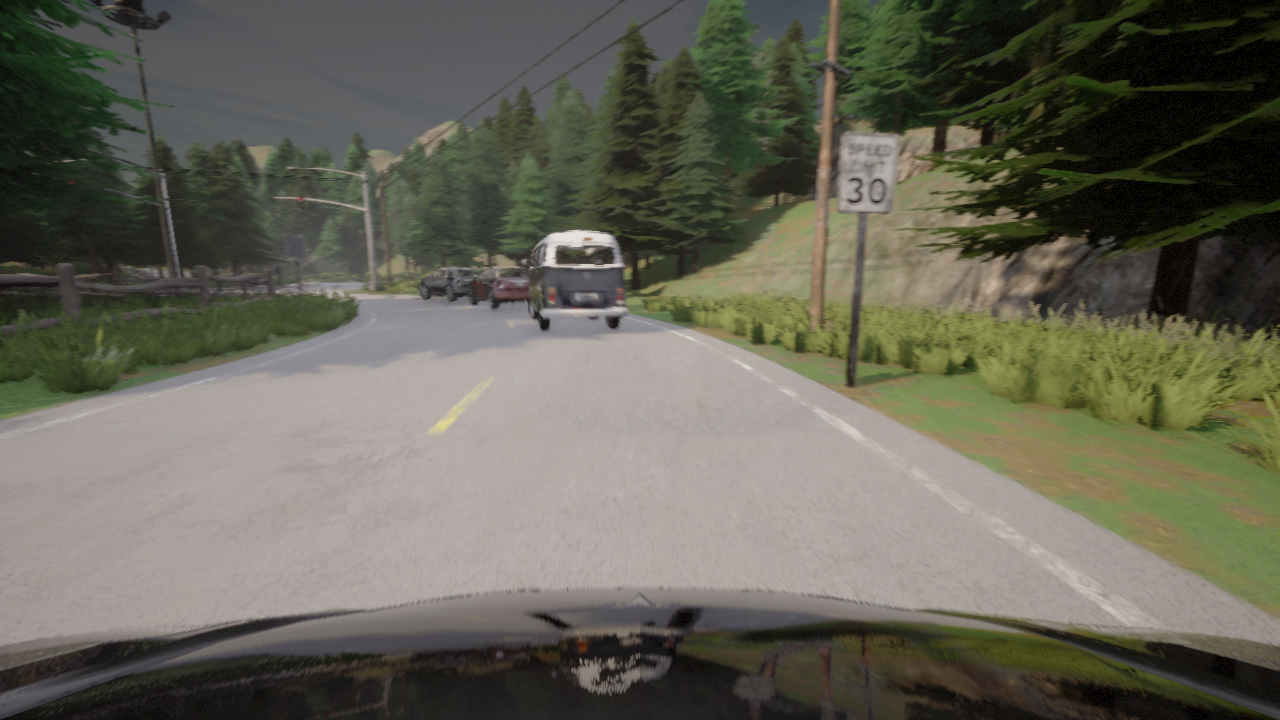cyclist: (0, 588, 1279, 719), (522, 231, 627, 331), (467, 266, 529, 308), (420, 268, 480, 301), (0, 261, 7, 290)
pedestrian: (274, 265, 282, 285)
